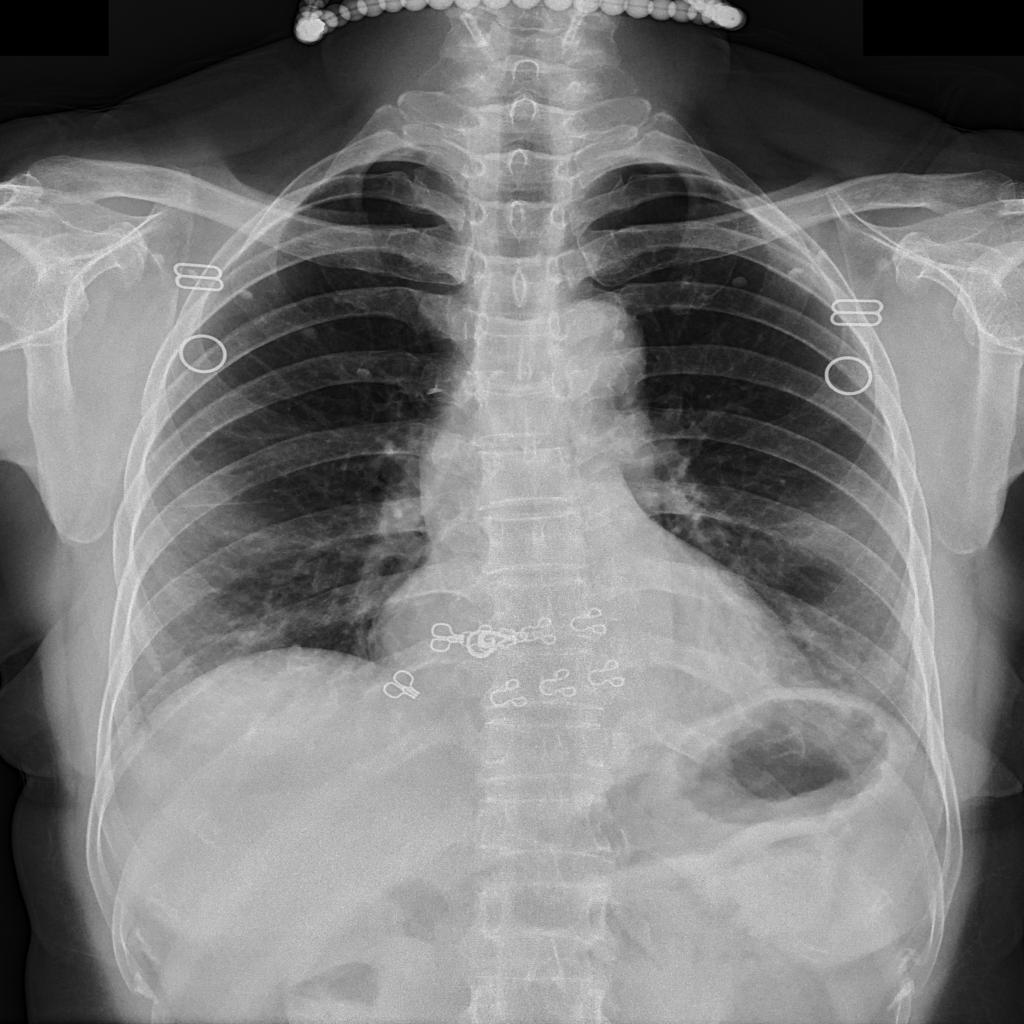Nodule: (731, 274, 751, 291), (356, 365, 375, 379), (667, 300, 684, 313), (300, 328, 317, 341), (234, 289, 252, 301)
